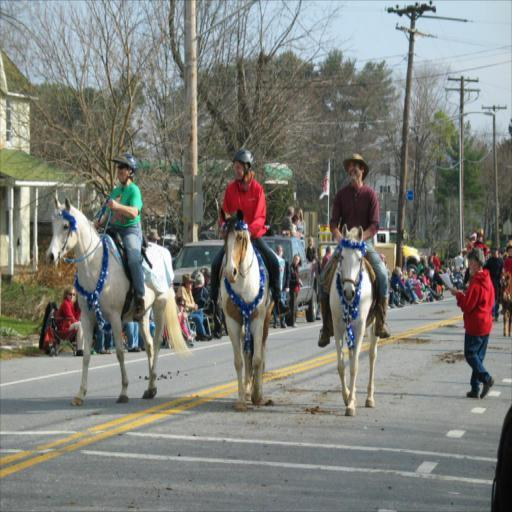horse: (40, 190, 192, 408), (214, 208, 276, 413), (324, 220, 382, 418)
